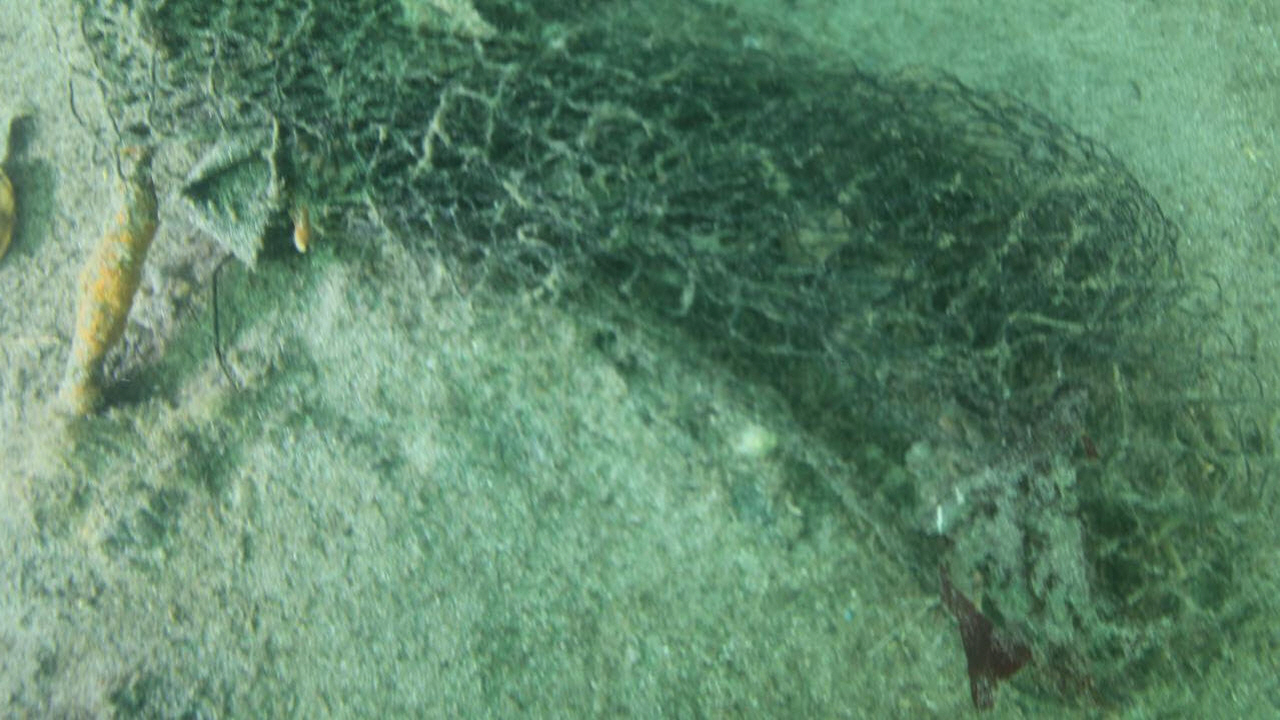fish net: (45, 0, 1275, 684)
